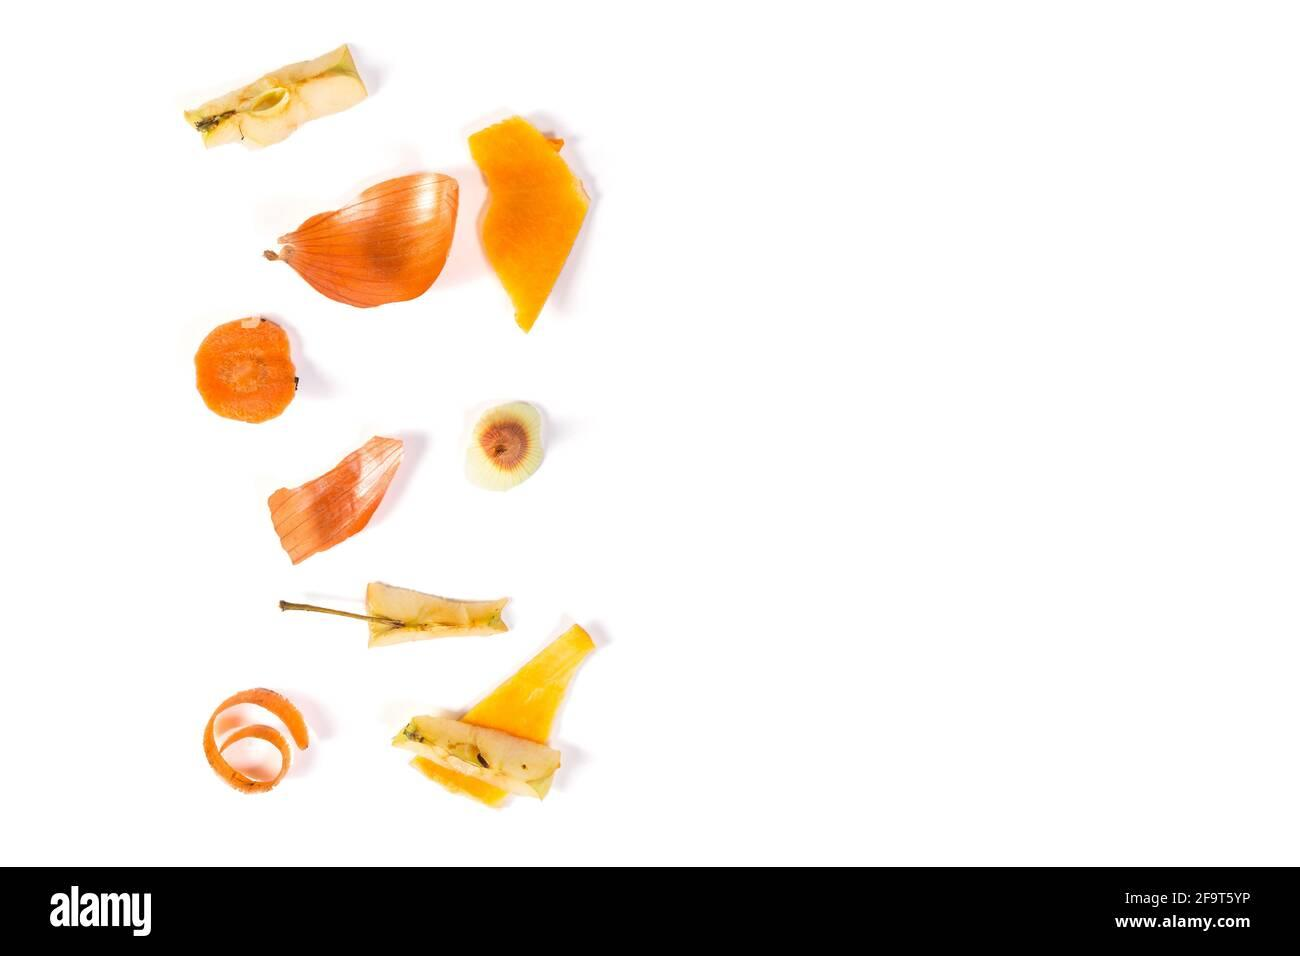organic: (264, 172, 458, 307), (469, 117, 588, 331), (403, 625, 594, 745), (185, 45, 367, 147), (268, 436, 402, 563), (394, 716, 560, 806), (204, 689, 309, 793), (195, 317, 296, 422), (365, 582, 507, 632), (466, 401, 544, 490)
